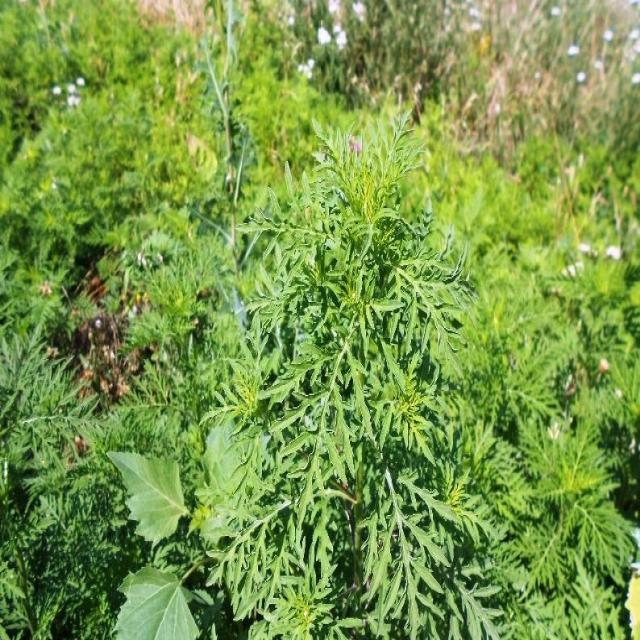ambrosia: (256, 82, 452, 614)
